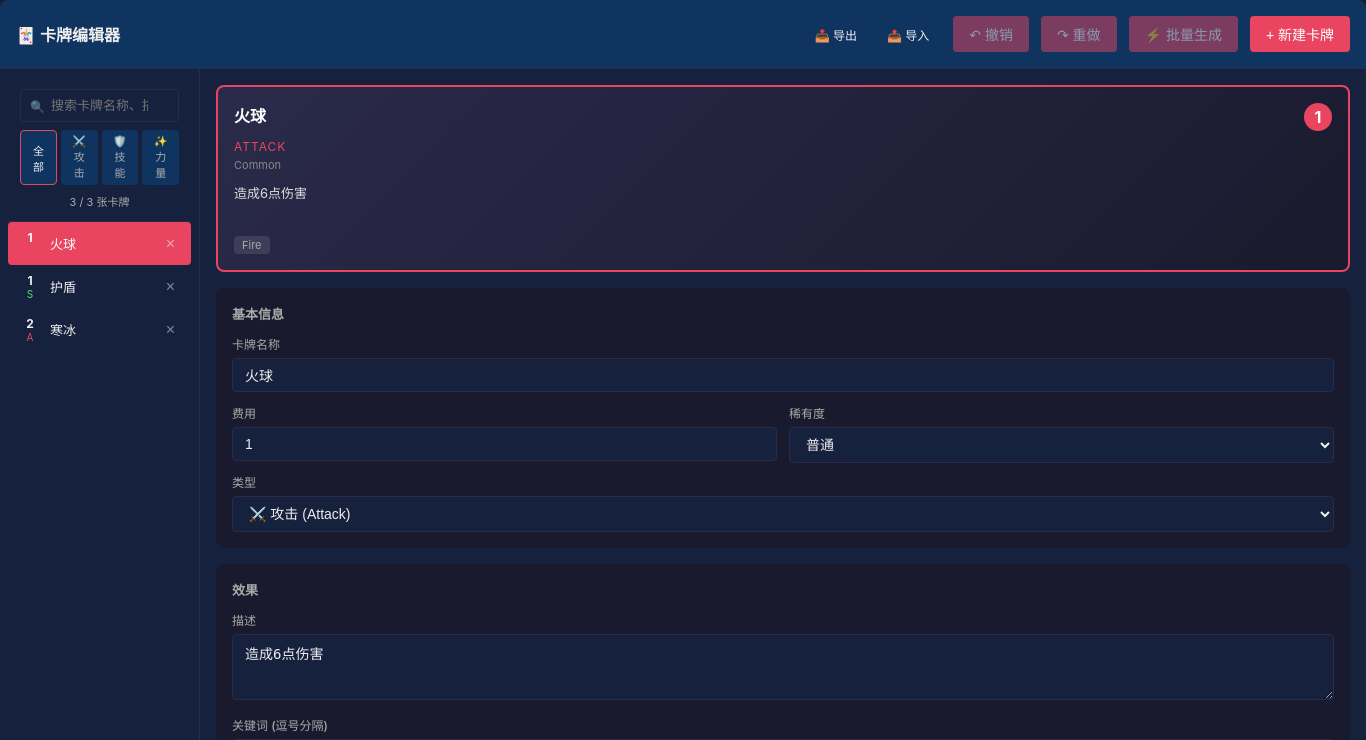
it: CardEditor 过滤 + 原始索引 › 按类型过滤 + 在过滤结果中删除使用正确的原始索引
Check: the text "火球" below "张卡牌" is shown, box [50, 236, 76, 252]
Check: the text "寒冰" is shown, box [50, 322, 76, 338]
Click the button "⚔️ 攻击": (79, 158) [61, 130, 98, 185]
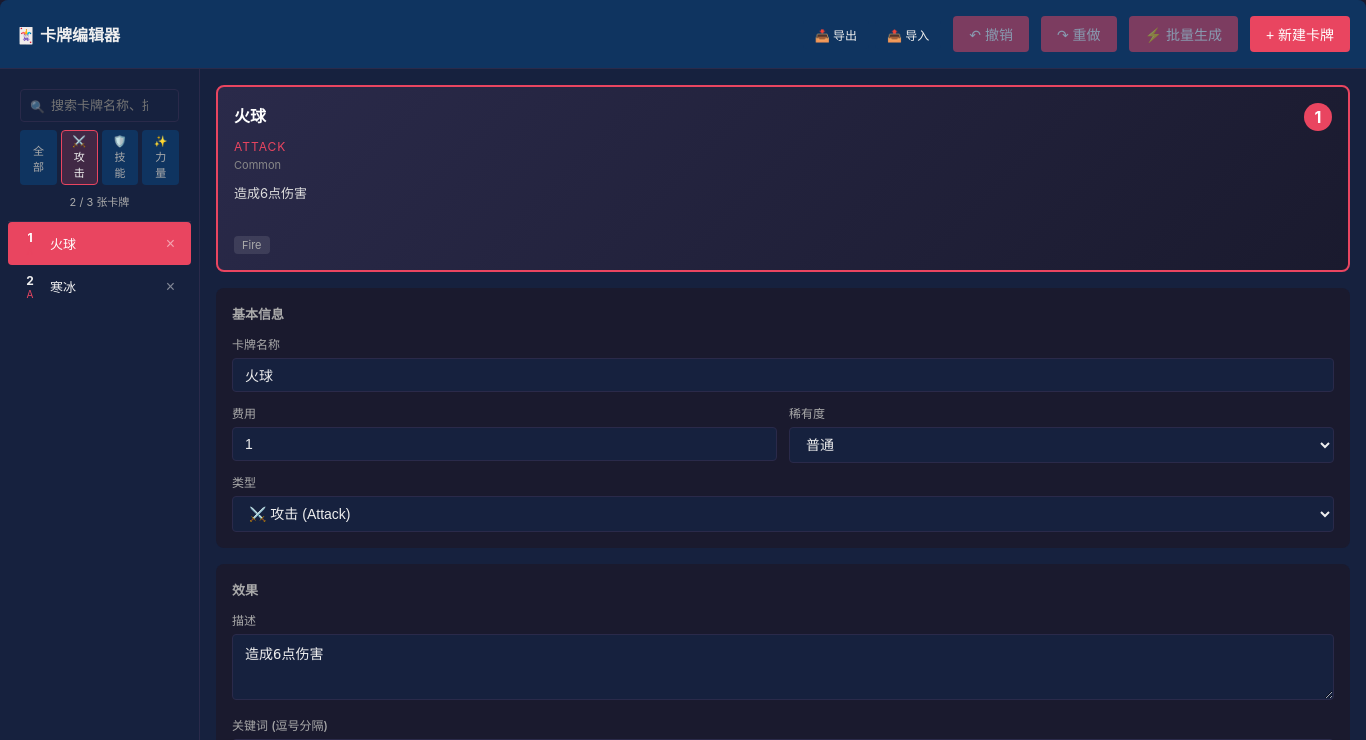
Check: the text "2 / 3 张卡牌" is shown, box [70, 195, 129, 209]
Check: the text "护盾" is gone
删除过滤列表中的「寒冰」(原始索引2)
Click the button "×" next to "寒冰": (170, 286) [160, 276, 181, 298]
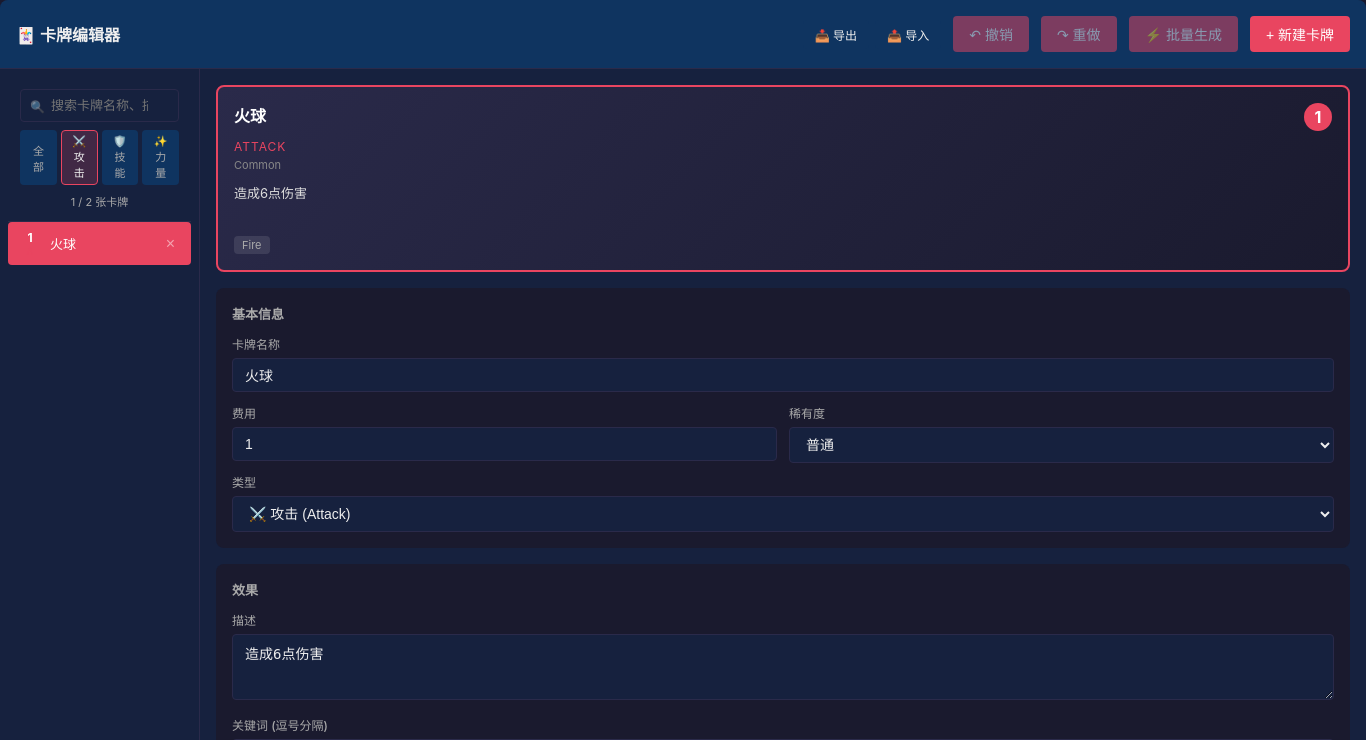
切回全部：护盾保留，寒冰被删
Click the button "全部": (38, 158) [20, 130, 57, 185]
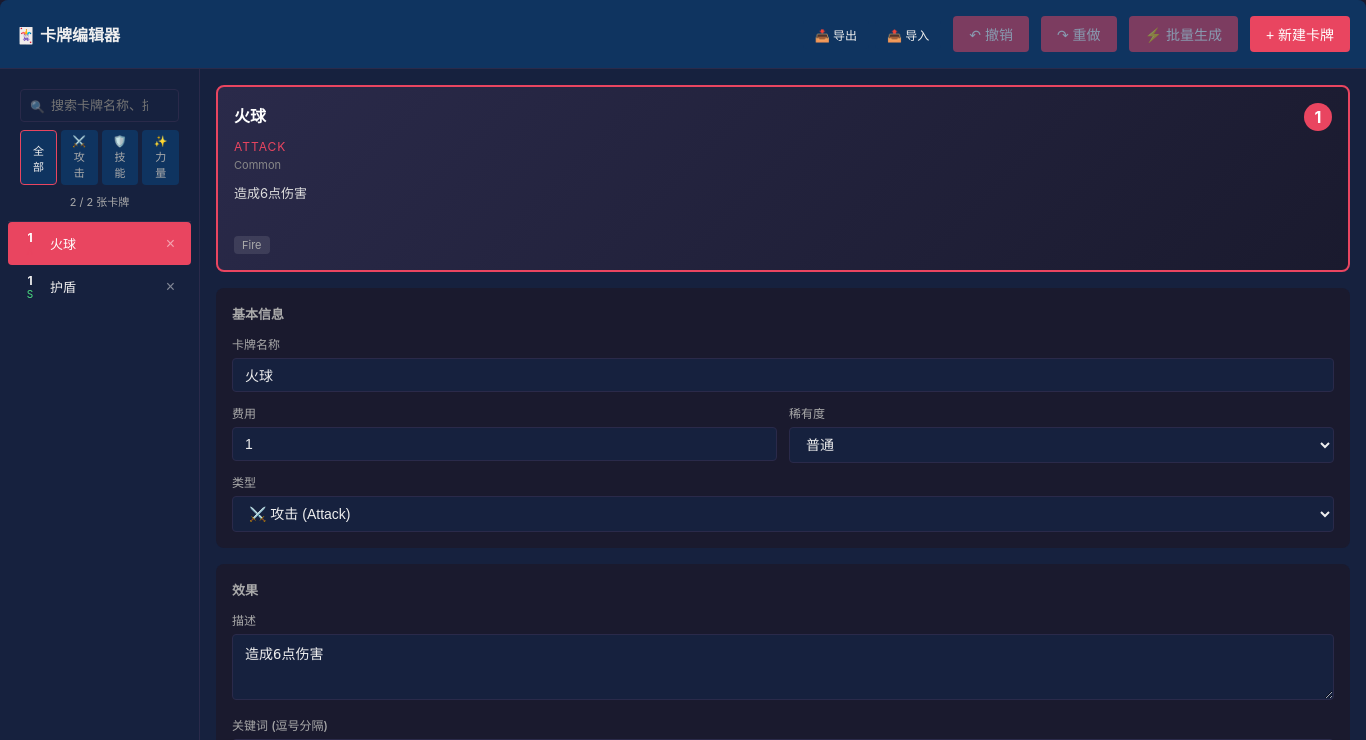
Check: the text "火球" below "张卡牌" is shown, box [50, 236, 76, 252]
Check: the text "护盾" is shown, box [50, 279, 76, 295]
